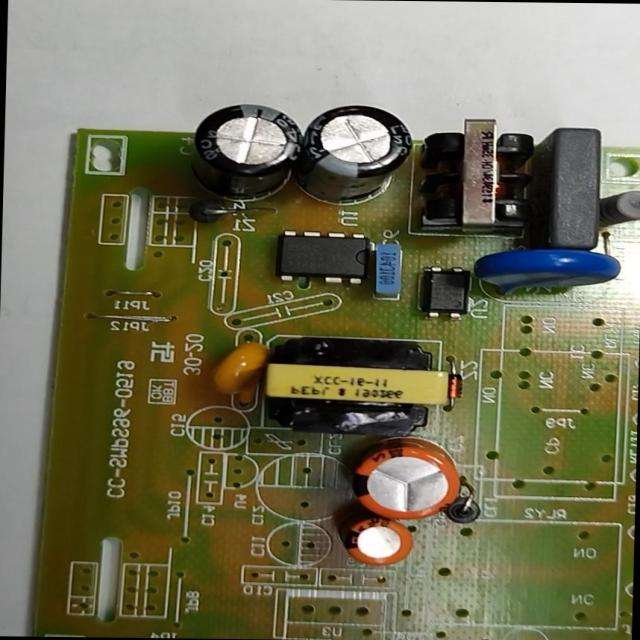Cap1: (345, 437, 472, 522)
Cap2: (337, 515, 422, 568)
Cap3: (289, 99, 419, 208)
Cap4: (181, 100, 307, 208)
MOSFET: (273, 228, 380, 289)
Mov: (466, 240, 626, 300)
Resistor: (592, 182, 640, 235)
Transformer: (256, 331, 454, 440), (412, 113, 544, 236)
